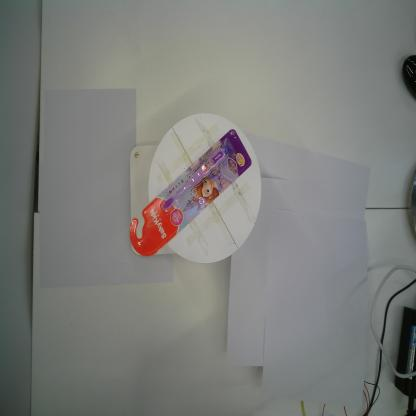Personal Hygiene: (129, 129, 252, 257)
